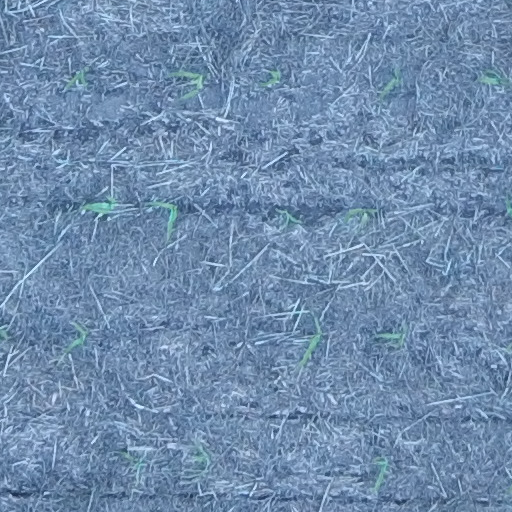planta: (146, 199, 180, 237), (168, 68, 206, 99), (299, 320, 323, 365), (78, 194, 118, 218), (379, 68, 401, 101), (65, 323, 88, 352), (375, 326, 407, 345), (477, 68, 509, 86), (344, 207, 377, 223), (373, 457, 389, 490), (65, 67, 88, 88), (259, 68, 281, 87), (278, 209, 299, 228)
